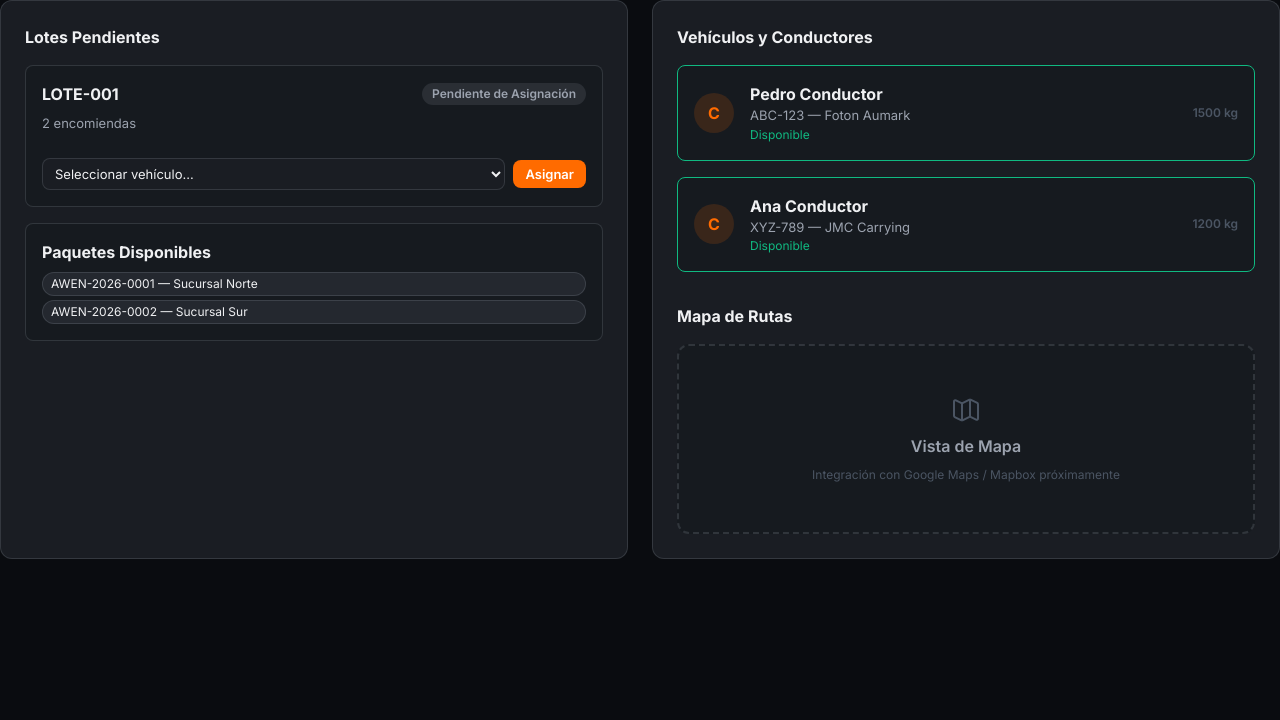
Scenario: Logistics › muestra error si falla la creacion del lote
Check: the text "LOTE-001" is shown, box [42, 82, 119, 106]
Click the checkbox labelled "AWEN-2026-0001 — Sucursal Norte": (103, 283) [42, 272, 586, 296]
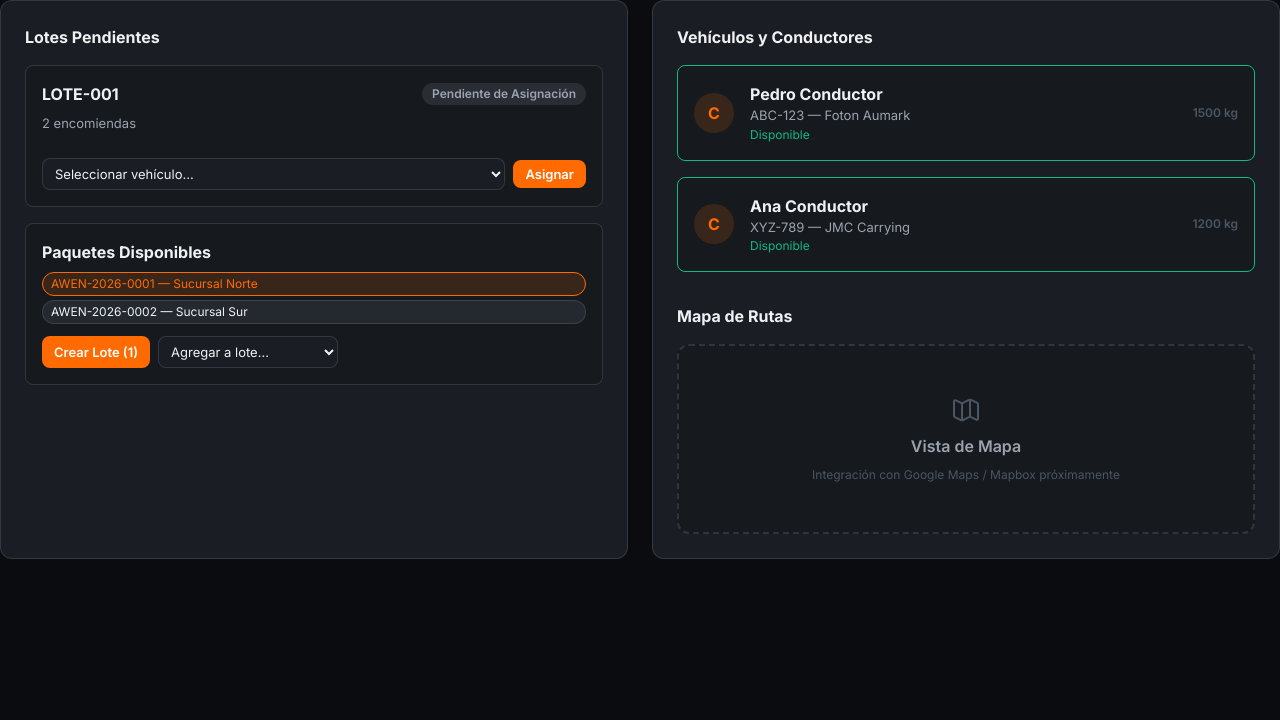
Click the button "Crear Lote (1)": (96, 352) [42, 336, 150, 368]
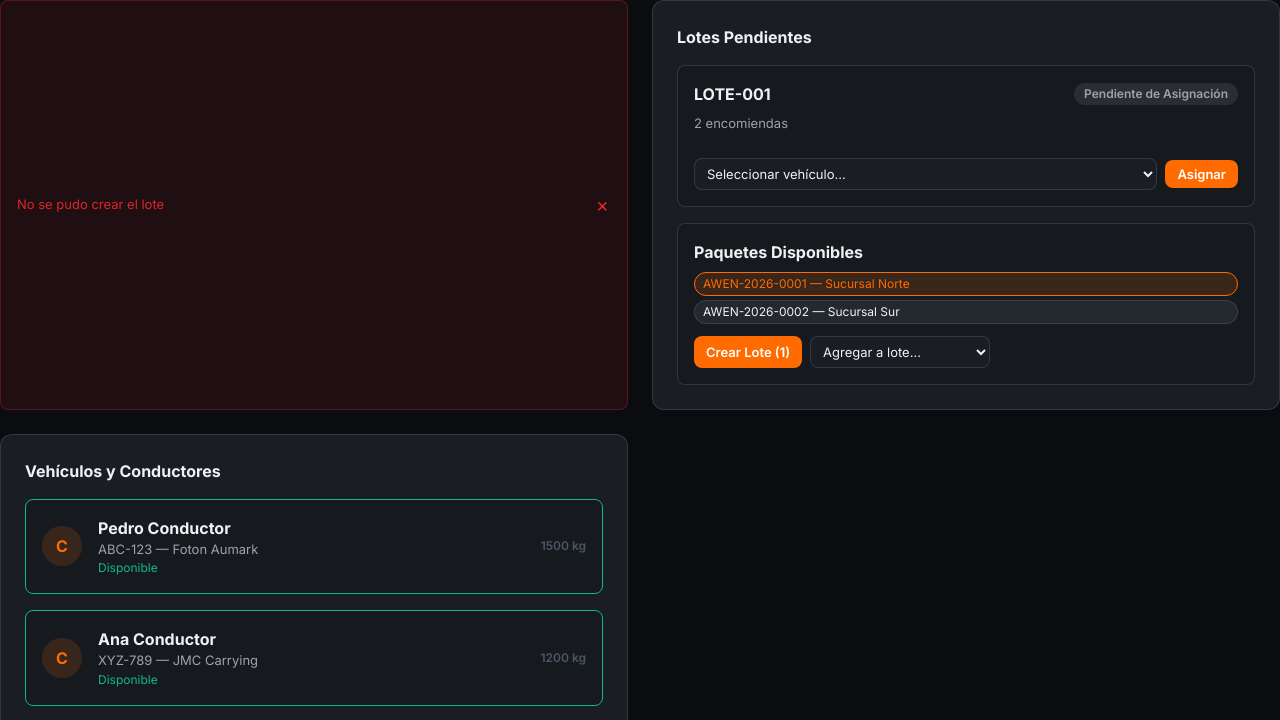
Check: the text "No se pudo crear el lote" is shown, box [17, 195, 164, 214]
